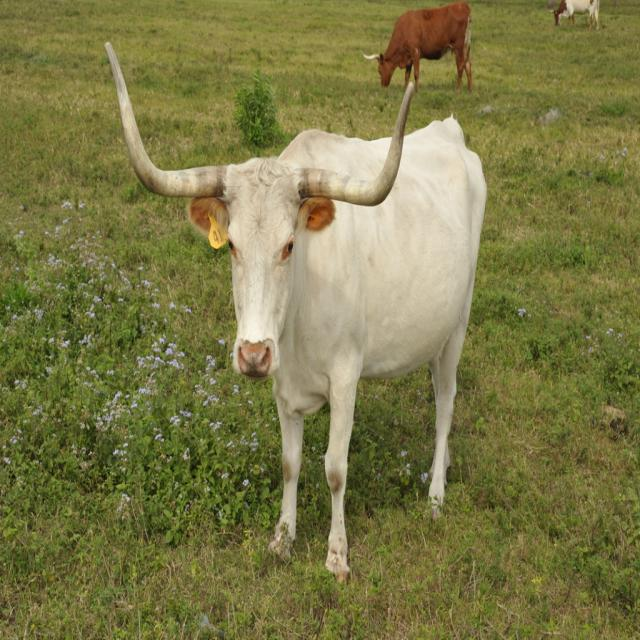Cattle: (104, 41, 487, 588), (363, 1, 472, 94), (550, 0, 599, 30)
